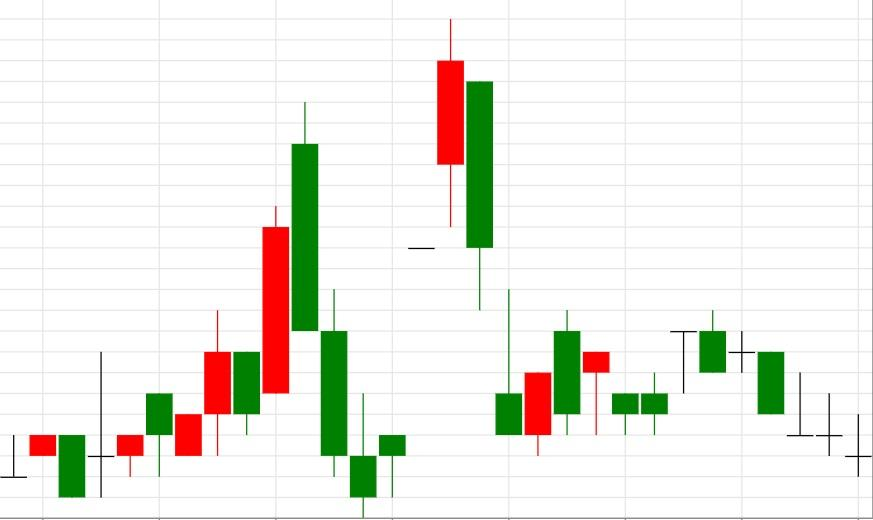inverse_hammer_rise: (437, 19, 523, 436)
three_black_crows_fall: (58, 102, 378, 519)
